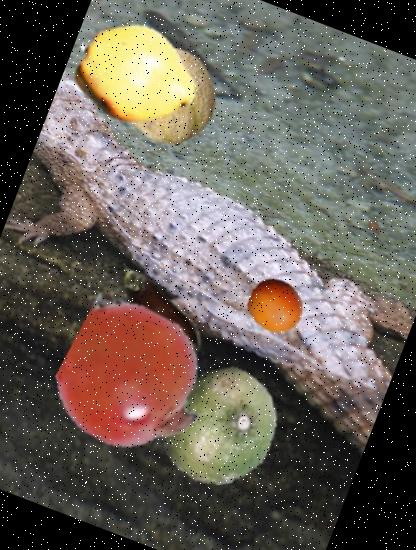Apricot: (240, 270, 312, 342)
Cantaloupe: (105, 32, 234, 161)
Eggplant: (82, 240, 228, 386)
Limes: (138, 344, 298, 504)
Quince: (54, 0, 215, 156)
Redcurrant: (41, 287, 230, 476)
